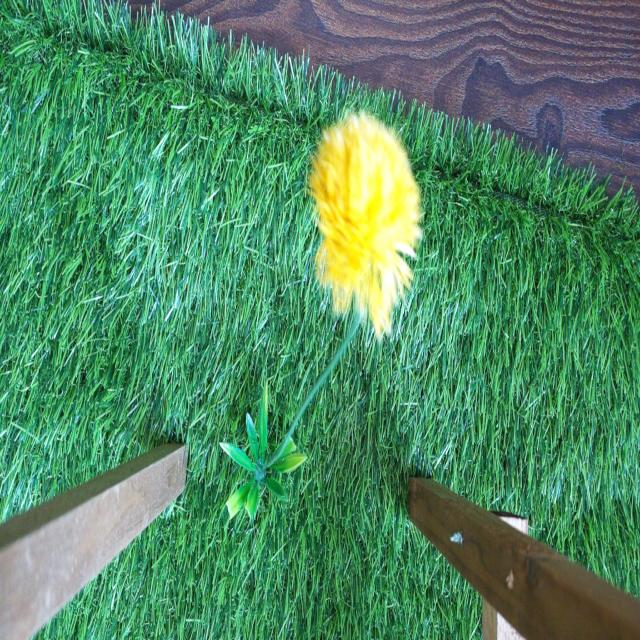base: (218, 382, 305, 523)
flower: (313, 111, 420, 328)
